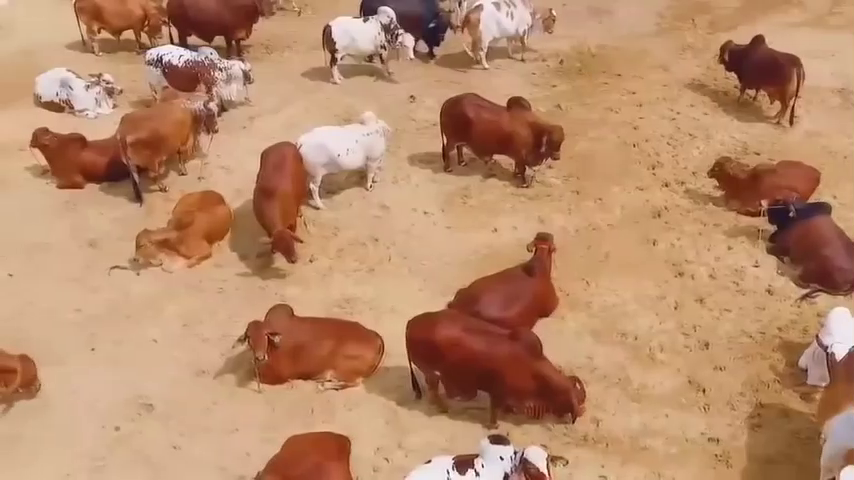bo: (402, 308, 596, 438), (441, 213, 579, 332), (427, 79, 565, 187), (245, 283, 387, 386), (749, 187, 854, 299), (122, 180, 242, 272), (290, 101, 395, 205), (108, 94, 220, 191), (242, 122, 316, 268), (377, 425, 573, 480), (713, 26, 811, 133), (133, 36, 266, 112), (20, 112, 132, 195), (307, 12, 417, 83), (158, 1, 288, 59), (698, 146, 822, 205), (464, 1, 568, 70), (357, 1, 464, 63), (250, 423, 361, 480), (808, 351, 854, 480), (794, 294, 854, 390), (59, 2, 170, 53), (27, 63, 122, 114)
